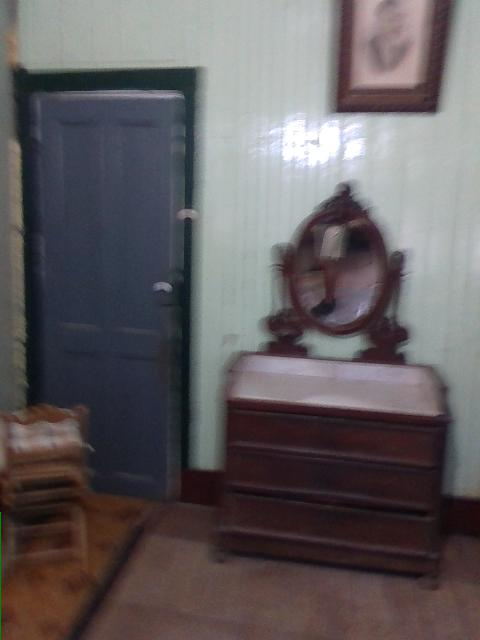door: (13, 65, 190, 500)
